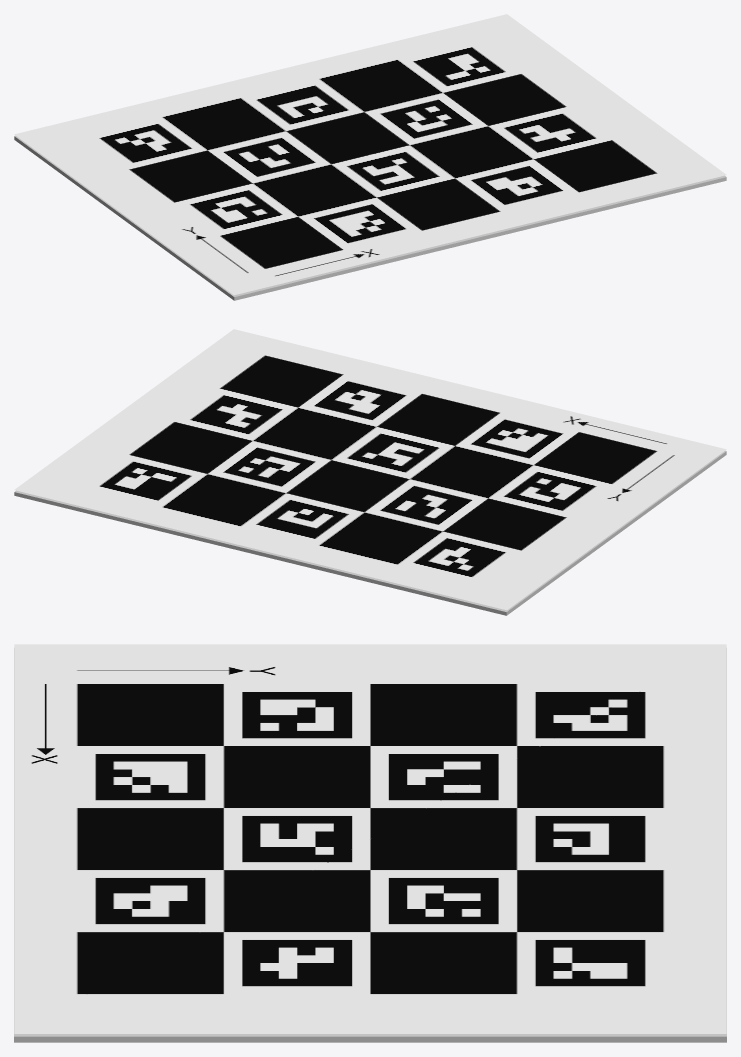
The model's file is charuco_target2.dae.
3 renders of one model, top to bottom at view 1: azimuth 30°, elevation 25°; view 2: azimuth 150°, elevation 25°; view 3: azimuth 270°, elevation 25°, orthographic. The views are drawn at different scales.
Visible parts, largest first — view 1: charuco_calibration_target2, Cube; view 2: charuco_calibration_target2, Cube; view 3: charuco_calibration_target2, Cube.
Boxes of the visible parts, <box> form: charuco_calibration_target2: <box>14,14,726,295</box>; Cube: <box>14,135,726,300</box>; charuco_calibration_target2: <box>14,329,726,610</box>; Cube: <box>14,450,726,615</box>; charuco_calibration_target2: <box>14,644,726,1033</box>; Cube: <box>14,648,726,1042</box>.
Size of the model in its own units: 0.2794 by 0.216 by 0.003.
Materials: 2 (1 with a texture image).
